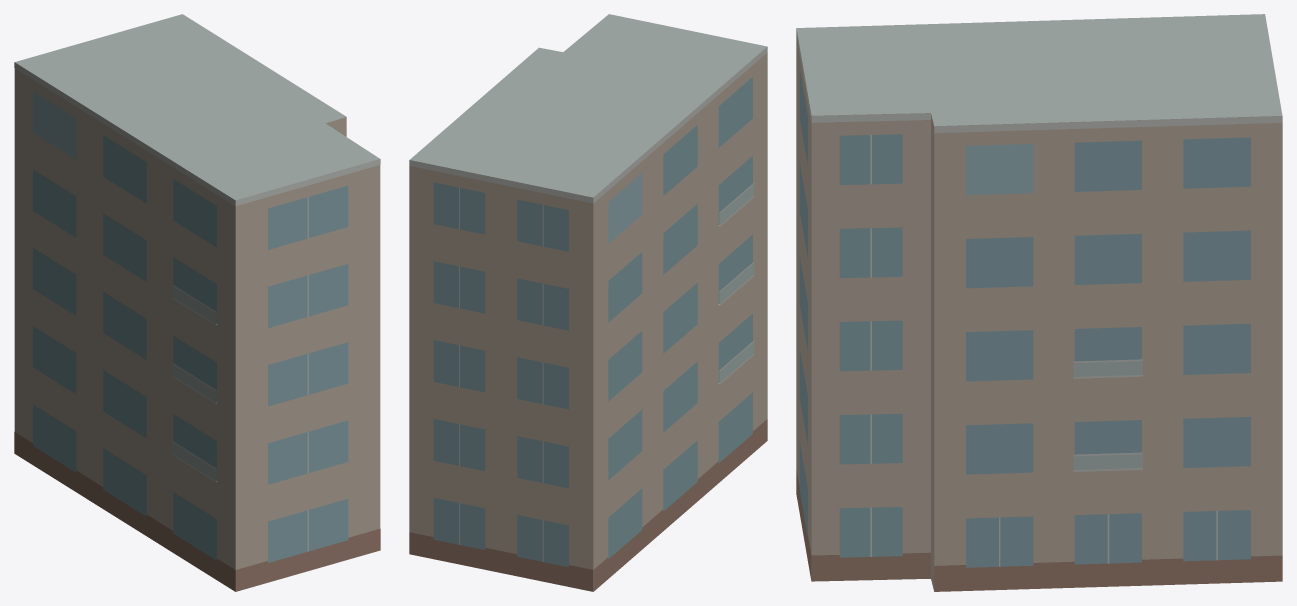
File: survey-upis-32963181.glb
3 renders of one model, left to right at view 1: azimuth 30°, elevation 25°; view 2: azimuth 150°, elevation 25°; view 3: azimuth 270°, elevation 25°, orthographic. The views are drawn at different scales.
Visible parts, largest first — view 1: survey-upis-32963181.tmp; view 2: survey-upis-32963181.tmp; view 3: survey-upis-32963181.tmp.
Boxes of the visible parts, x1=… form: survey-upis-32963181.tmp: x1=14, y1=14, x2=380, y2=591; survey-upis-32963181.tmp: x1=409, y1=14, x2=767, y2=591; survey-upis-32963181.tmp: x1=796, y1=14, x2=1282, y2=591.
Bounding box in the file's own units: 8.43 × 16.3 × 15.43.
